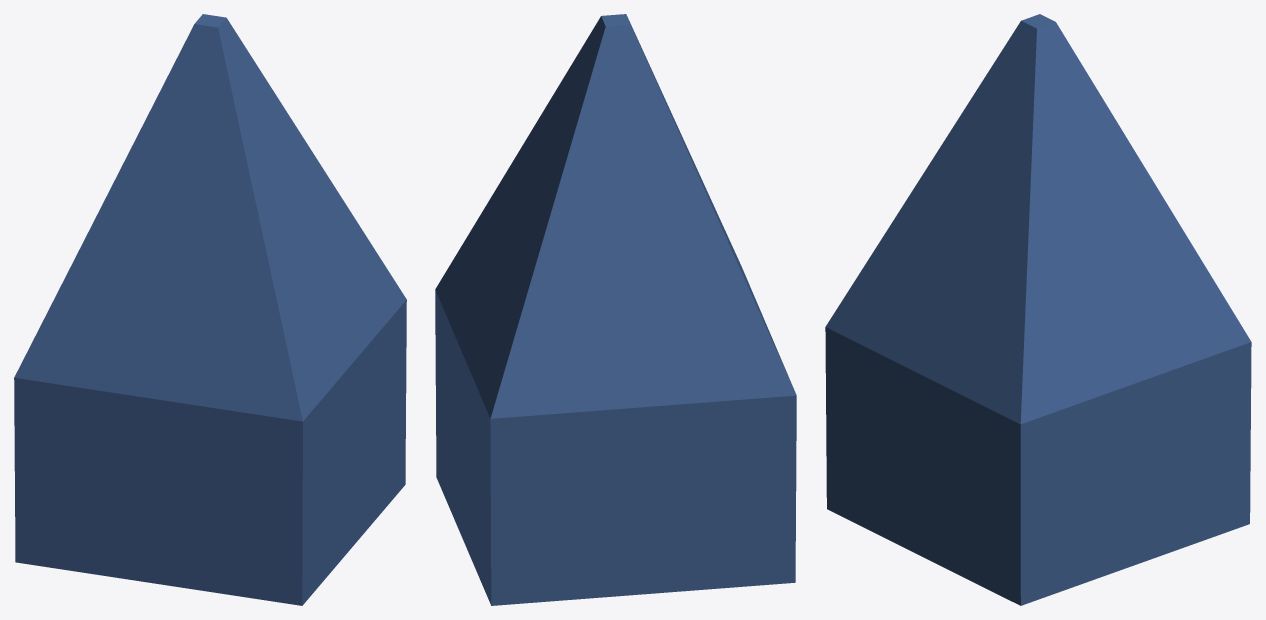
Rendered from tree-winter-leaves-029.glb.
3 renders of one model, left to right at view 1: azimuth 30°, elevation 25°; view 2: azimuth 150°, elevation 25°; view 3: azimuth 270°, elevation 25°, orthographic. The views are drawn at different scales.
Parts seen in each view (by area): view 1: Plane.065_165; view 2: Plane.065_165; view 3: Plane.065_165.
Part boxes in pixels (x1,y1,x2,y2): Plane.065_165: [14, 14, 406, 605]; Plane.065_165: [435, 14, 796, 605]; Plane.065_165: [825, 14, 1251, 605].
Size of the model in its own units: 0.6307 by 0.8087 by 0.6307.
